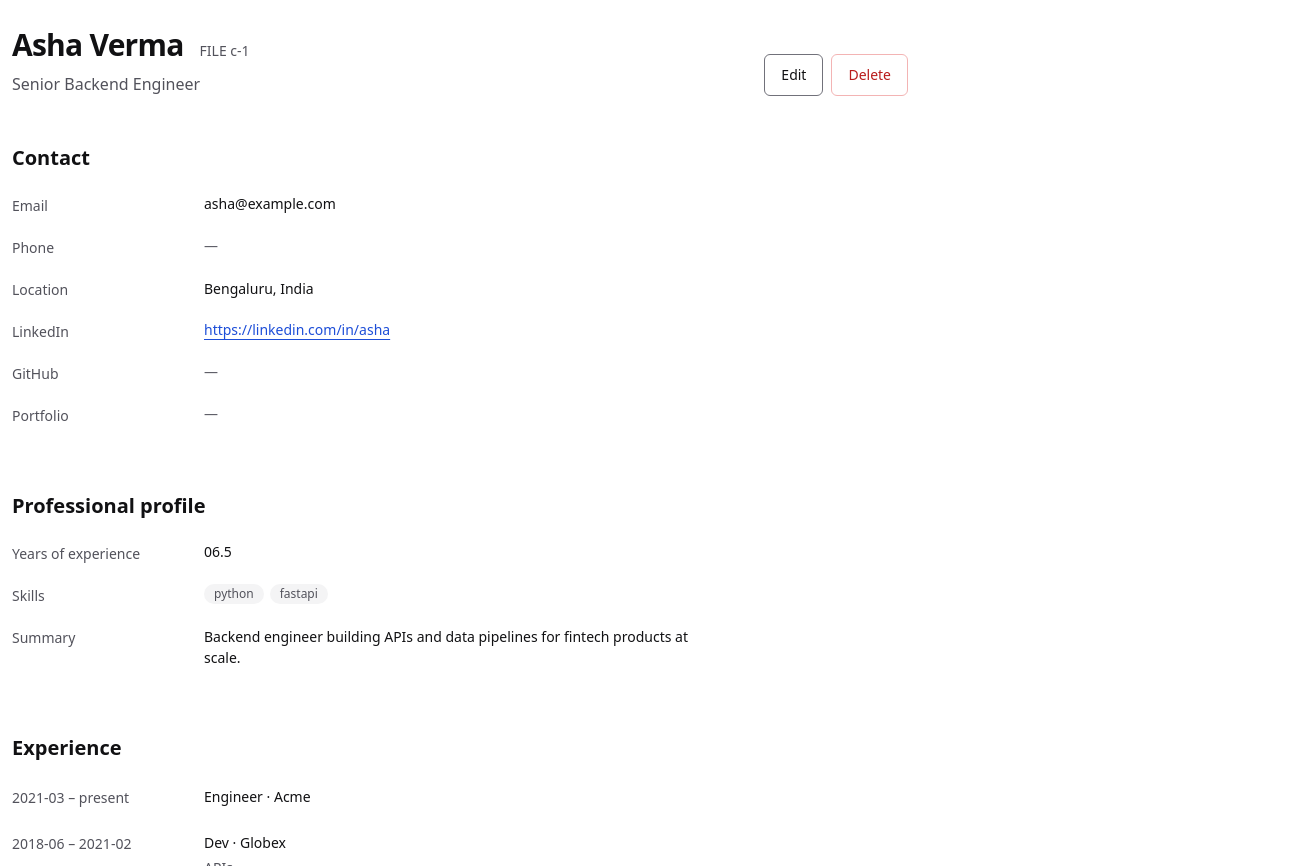
Test case: CandidateDetailPage › saves edits with the loaded version and shows the updated profile
This screenshot has width=1292, height=866.
Click the button "Edit". click: (794, 74)
box: [764,54,824,96]
(page scrolled)
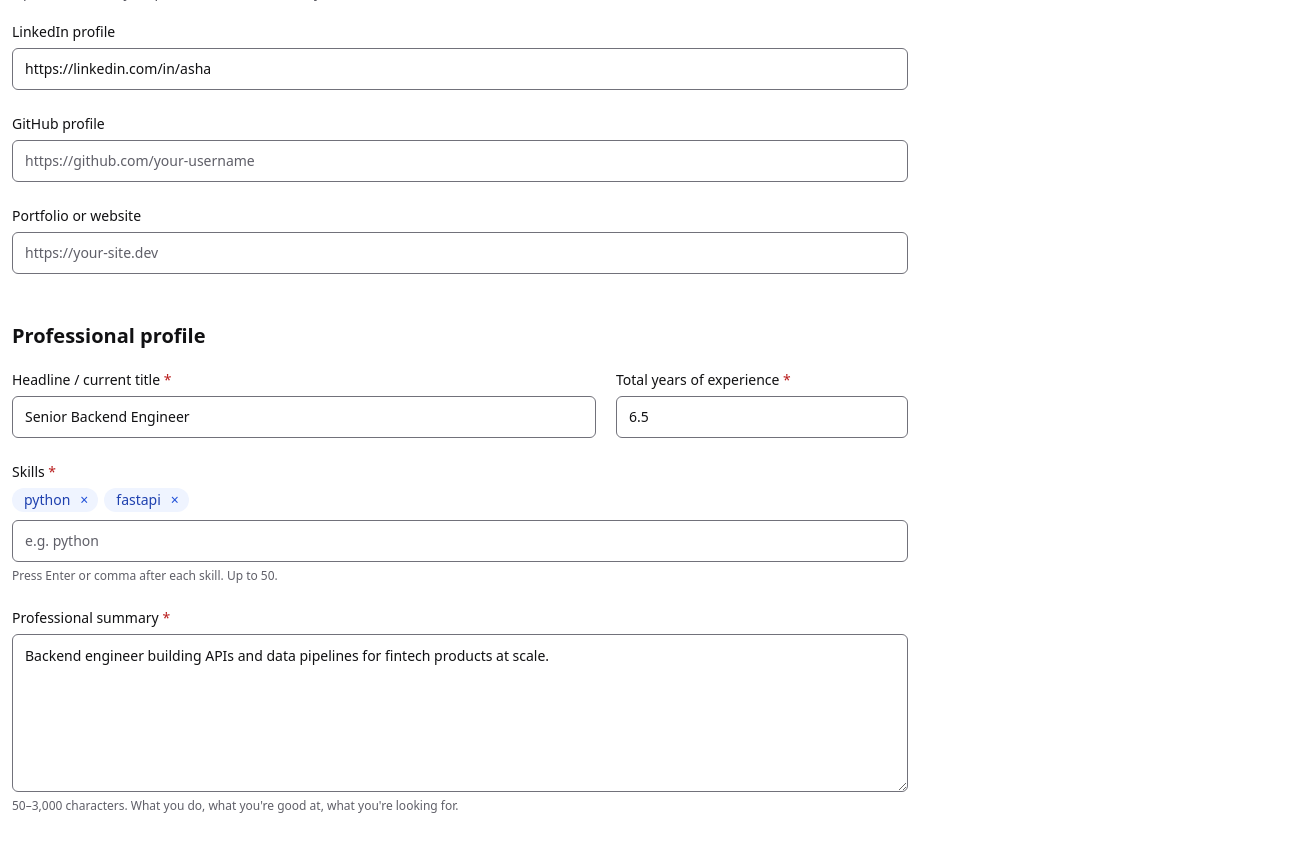
Replace the text in the field labelled "Headline / current title *" with "Staff Engineer". click: (304, 416)
box: [12,396,596,438]
(page scrolled)
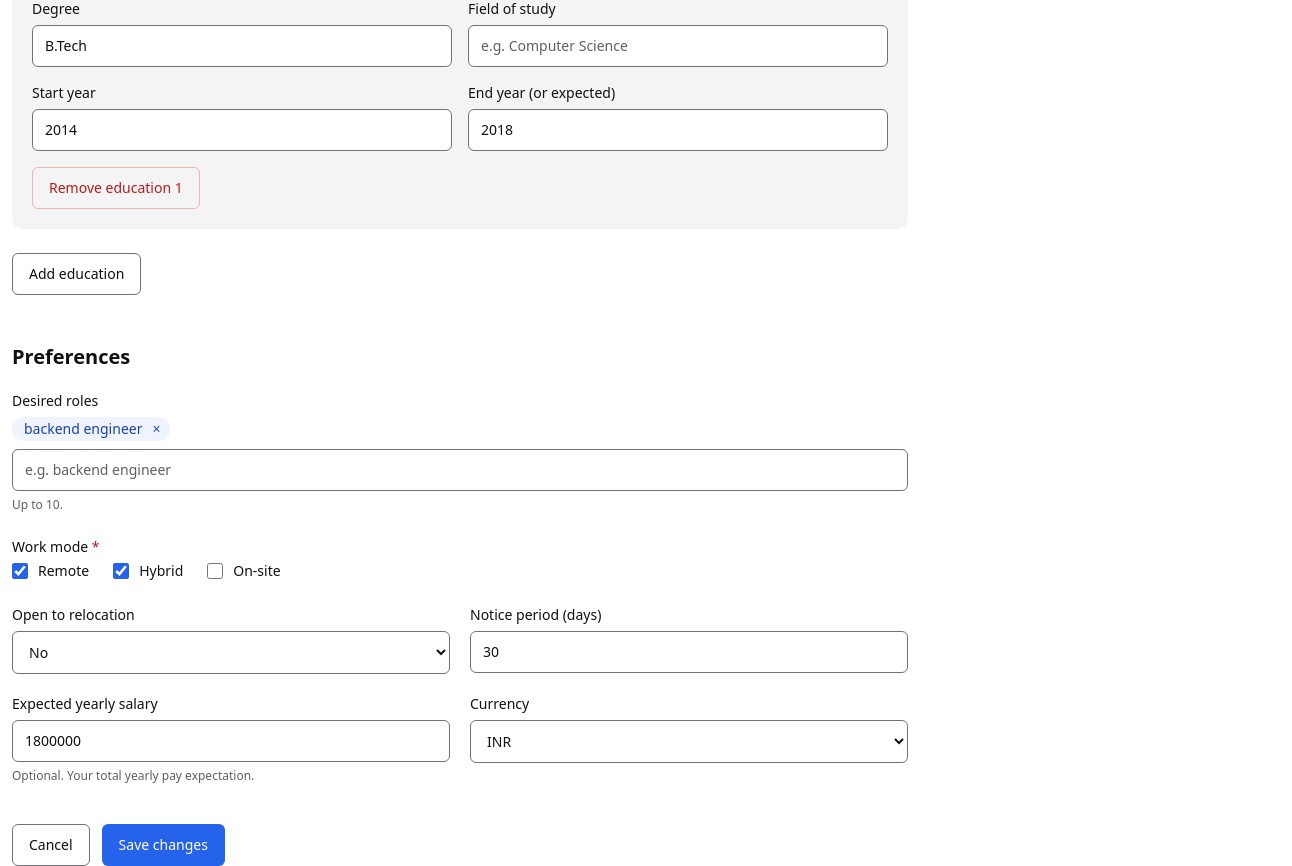
Click the button "Save changes". click: (163, 845)
box: [102,824,225,865]
(page scrolled)
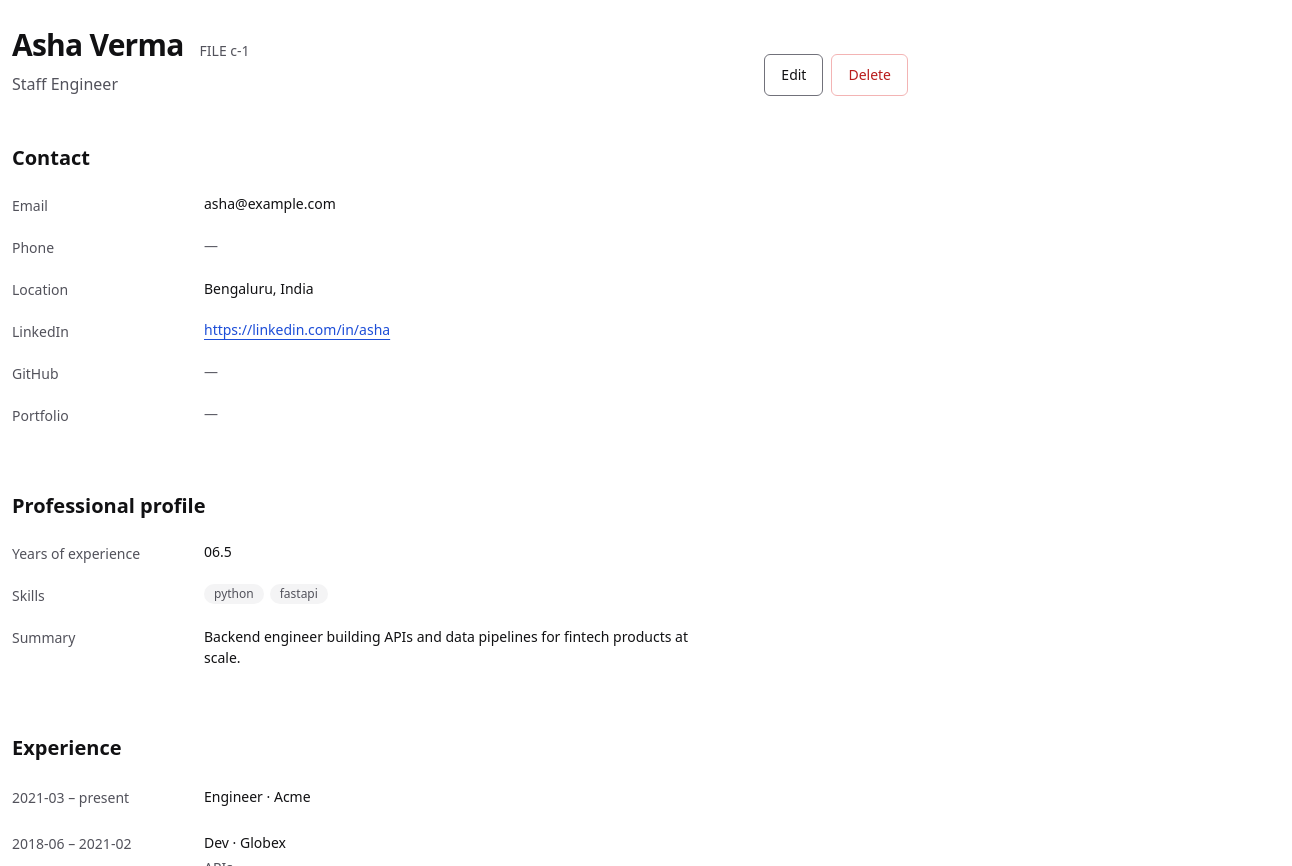
Expected: the button "Edit" is shown, [764,54,824,96]
Expected: the text "Staff Engineer" is shown, [12,72,118,94]
